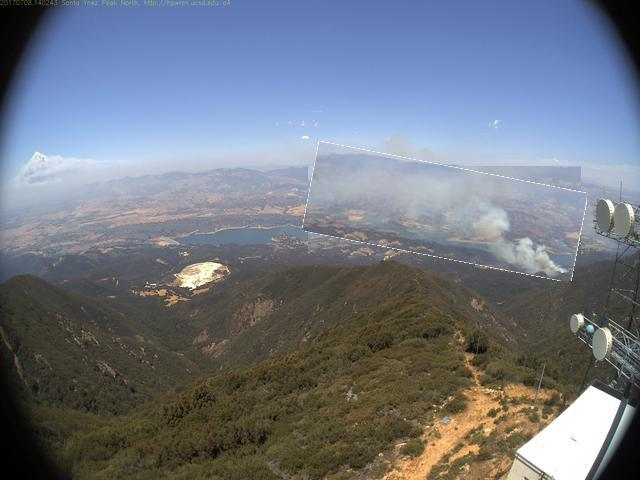smoke: (306, 155, 586, 271)
